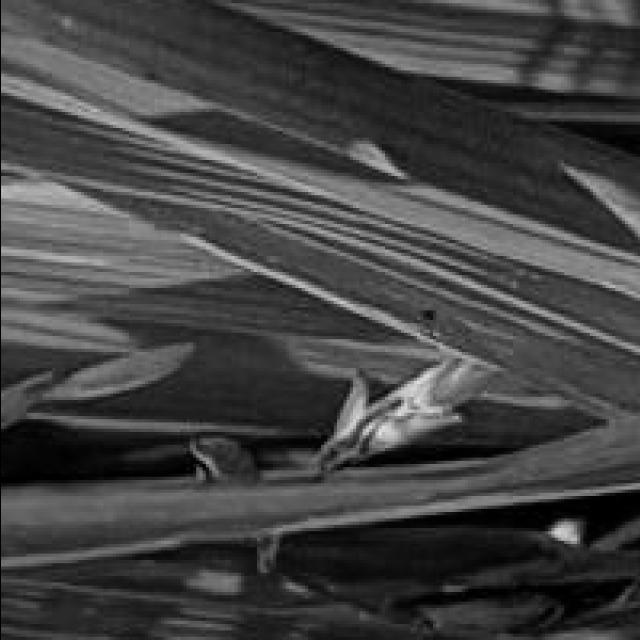Bacterial_Leaf_Blight: (0, 412, 627, 548)
